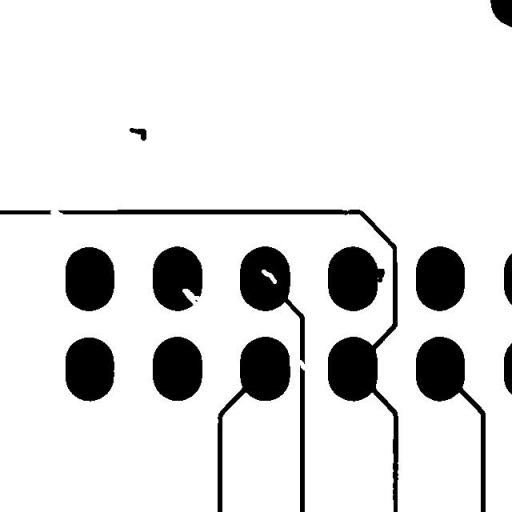copper: (122, 120, 154, 148)
mousebite: (174, 280, 210, 314)
open: (42, 198, 70, 224), (290, 352, 314, 378)
pin-hole: (254, 262, 284, 291)
spur: (366, 260, 392, 290)
